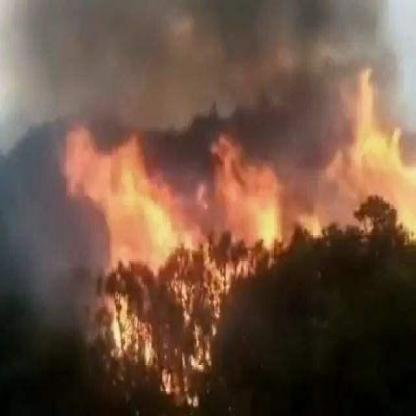fire: (66, 74, 272, 400), (261, 53, 415, 247)
smoke: (41, 1, 370, 133)
